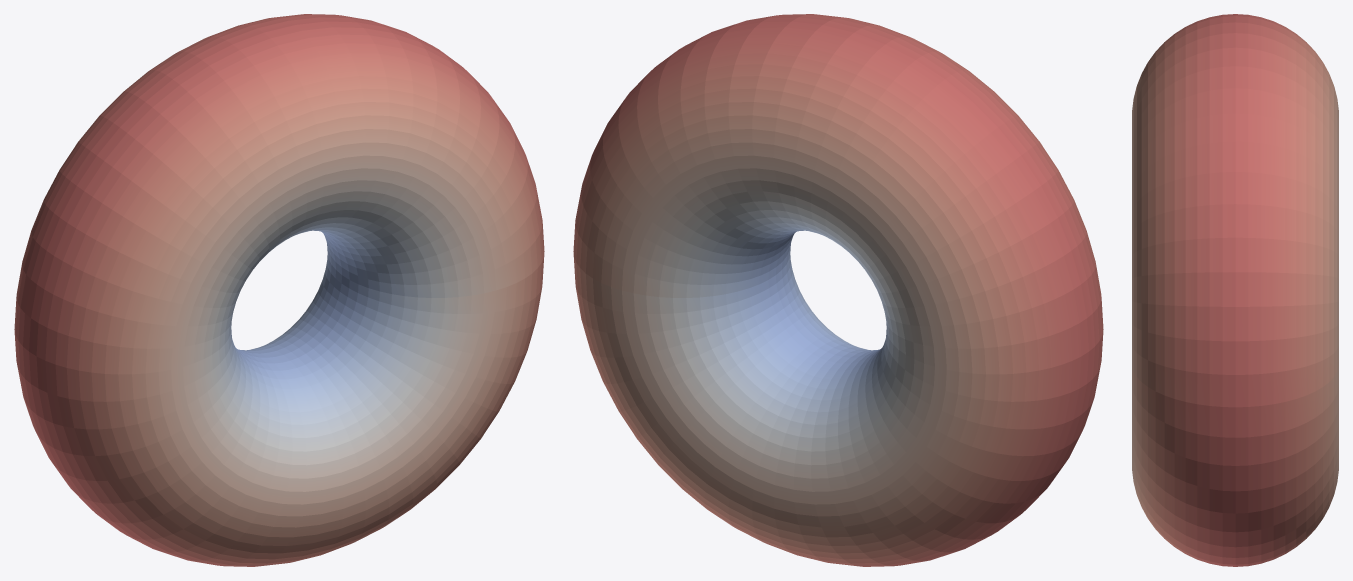
The picture shows the model from 3 angles, left to right: view 1: azimuth 30°, elevation 25°; view 2: azimuth 150°, elevation 25°; view 3: azimuth 270°, elevation 25°; orthographic projection. The views are drawn at different scales.
Visible parts, largest first — view 1: world; view 2: world; view 3: world.
Boxes of the visible parts, x1,y1,x2,y2 form: world: (14,14,544,566); world: (573,14,1103,566); world: (1132,14,1338,566).
Size of the model in its own units: 24.53 by 24.48 by 9.18.
